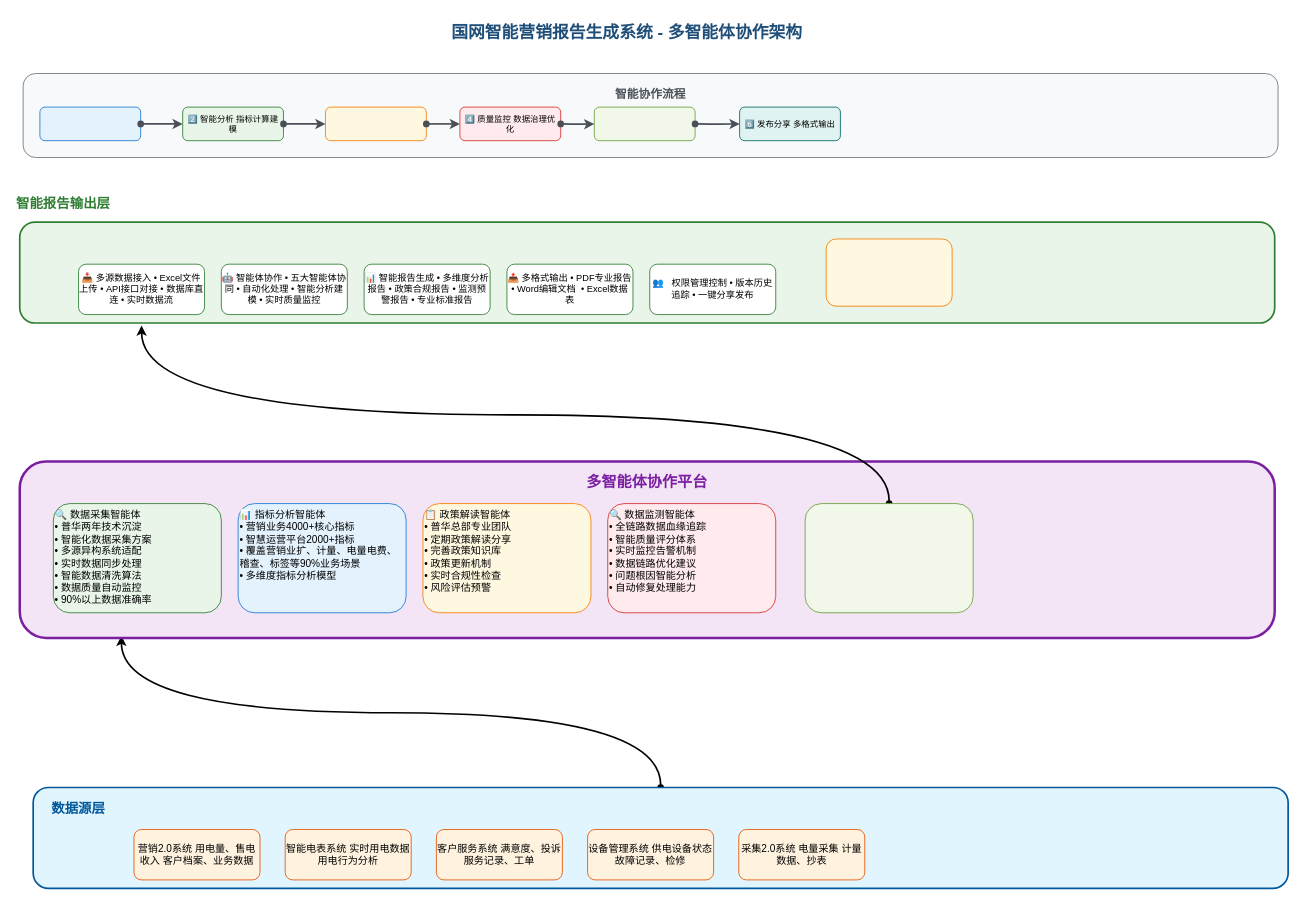
Some shapes in this 1303 by 903 pixel diagram are drawn without their labels. Each missing label, with the centre of its shape:
1️⃣ 数据接入 多源数据整合: [90,123]
3️⃣ 政策解读 合规性检查: [375,123]
5️⃣ 报告生成 智能模板匹配: [644,123]
⚡ 系统优势 • 大幅时间节省 • 显著准确性提升 • 高投资回报率 • 智能化程度高: [888,272]
📝 报告生成智能体 • 智能模板匹配引擎 • 多格式PDF、word、Excel专业输出 • 个性化定制配置 • 自动排版美化 • 国网标准合规: [888,558]
